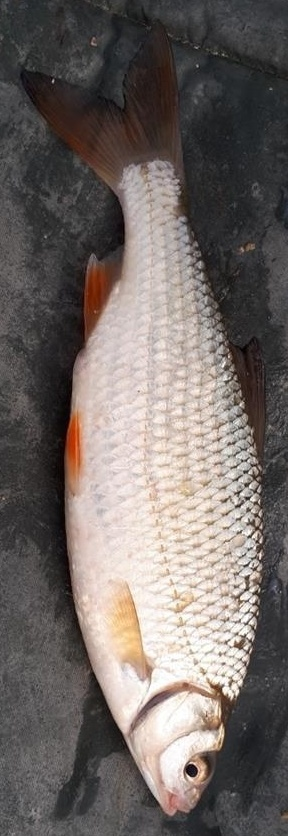Leuciscus idus: (20, 20, 268, 816)
